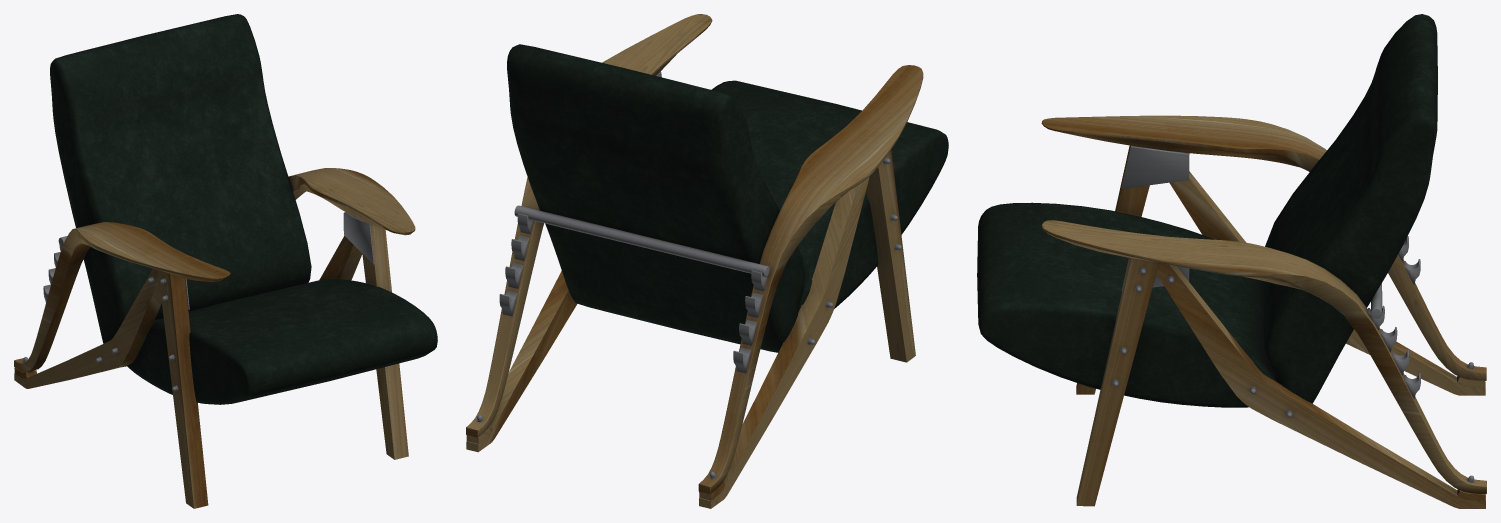
The model's file is furniture_for_real-time_visualization_engine.glb.
3 views of the same model, side by side, from view 1: azimuth 30°, elevation 25°; view 2: azimuth 150°, elevation 25°; view 3: azimuth 270°, elevation 25° (orthographic). The views are drawn at different scales.
Parts seen in each view (by area): view 1: Kreslo_low; view 2: Kreslo_low; view 3: Kreslo_low.
Boxes of the visible parts, x1,y1,x2,y2 form: Kreslo_low: (14,14,437,508); Kreslo_low: (466,14,948,508); Kreslo_low: (977,14,1486,508).
Size of the model in its own units: 1.05 by 1.23 by 1.47.
Materials: 1 (1 with a texture image).
